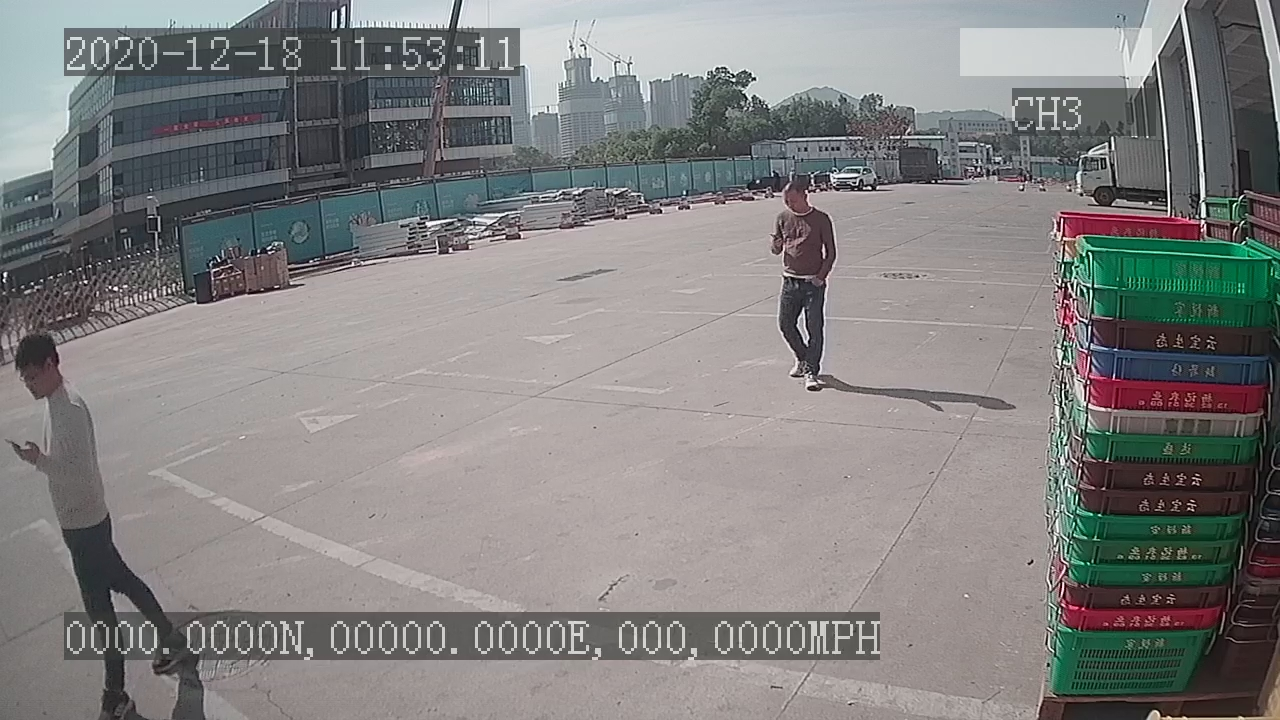person: (761, 172, 840, 397)
